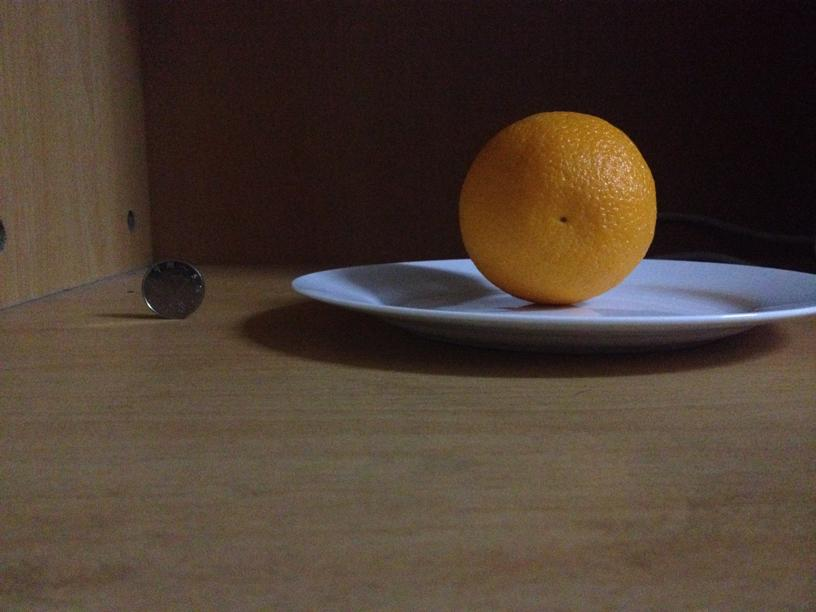coin: (139, 259, 204, 321)
orange: (460, 112, 656, 304)
